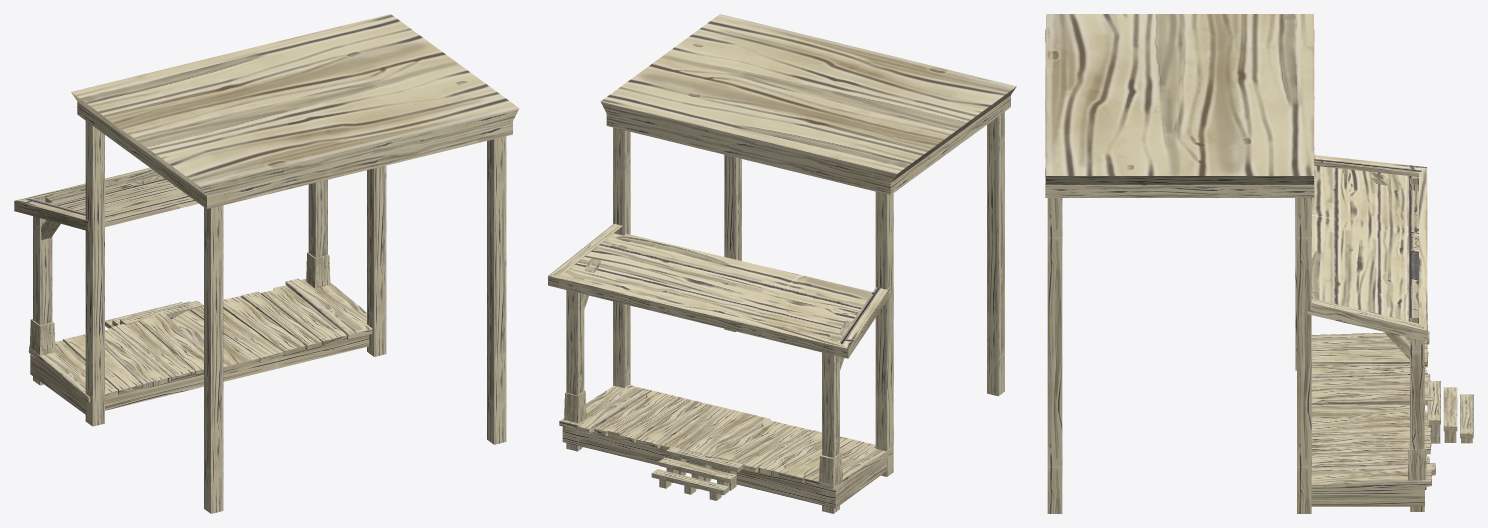
The model's file is SM_18_wood.fbx.
3 renders of one model, left to right at view 1: azimuth 30°, elevation 25°; view 2: azimuth 150°, elevation 25°; view 3: azimuth 270°, elevation 25°, orthographic. The views are drawn at different scales.
Visible parts, largest first — view 1: Cube.169; view 2: Cube.169; view 3: Cube.169.
Boxes of the visible parts, bbox=[...] form: Cube.169: bbox=[14, 14, 519, 513]; Cube.169: bbox=[548, 14, 1016, 513]; Cube.169: bbox=[1045, 14, 1473, 513].
Size of the model in its own units: 7.11 by 6.95 by 7.84.
